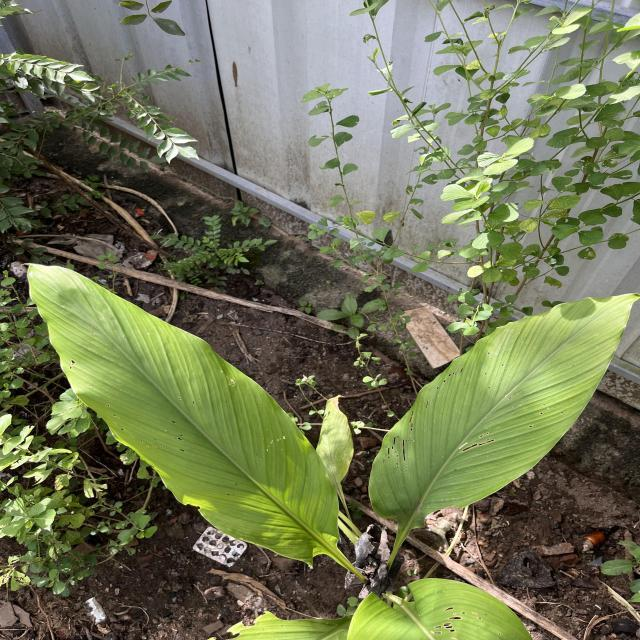Curcuma longa: (21, 260, 348, 562), (365, 289, 640, 532)
